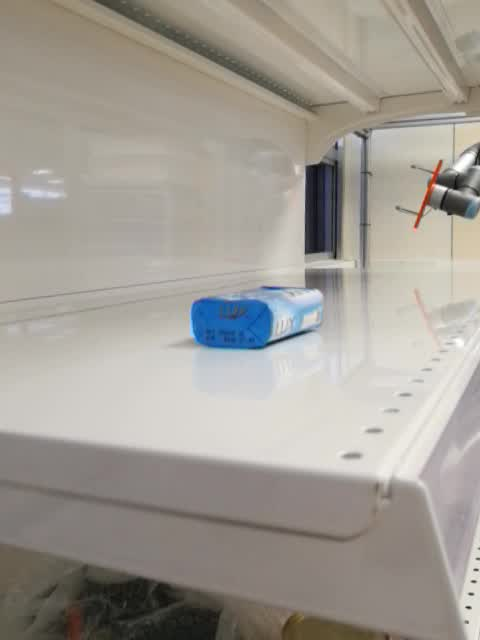soap: (190, 284, 326, 351)
